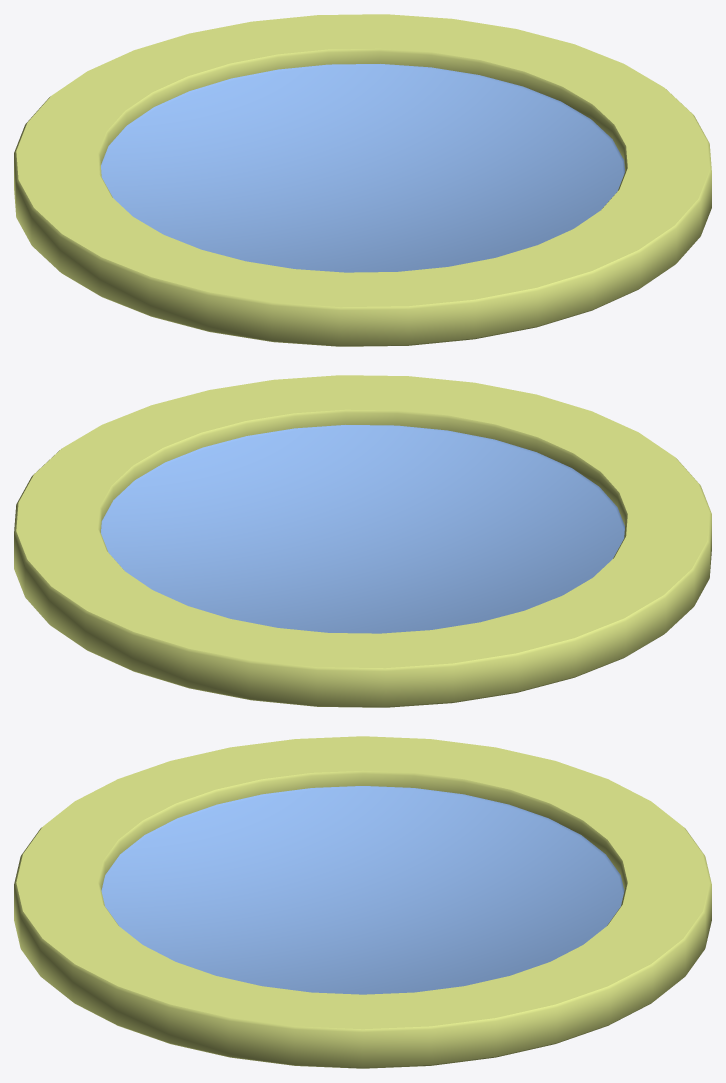
Rendered from Token.fbx.
3 renders of one model, top to bottom at view 1: azimuth 30°, elevation 25°; view 2: azimuth 150°, elevation 25°; view 3: azimuth 270°, elevation 25°, orthographic.
Visible parts, largest first — view 1: Token_low001; view 2: Token_low001; view 3: Token_low001.
Part boxes in pixels (x1,y1,x2,y2): Token_low001: [14, 14, 711, 346]; Token_low001: [14, 375, 711, 707]; Token_low001: [14, 736, 711, 1068].
Bounding box in the file's own units: 80 × 5 × 80.
